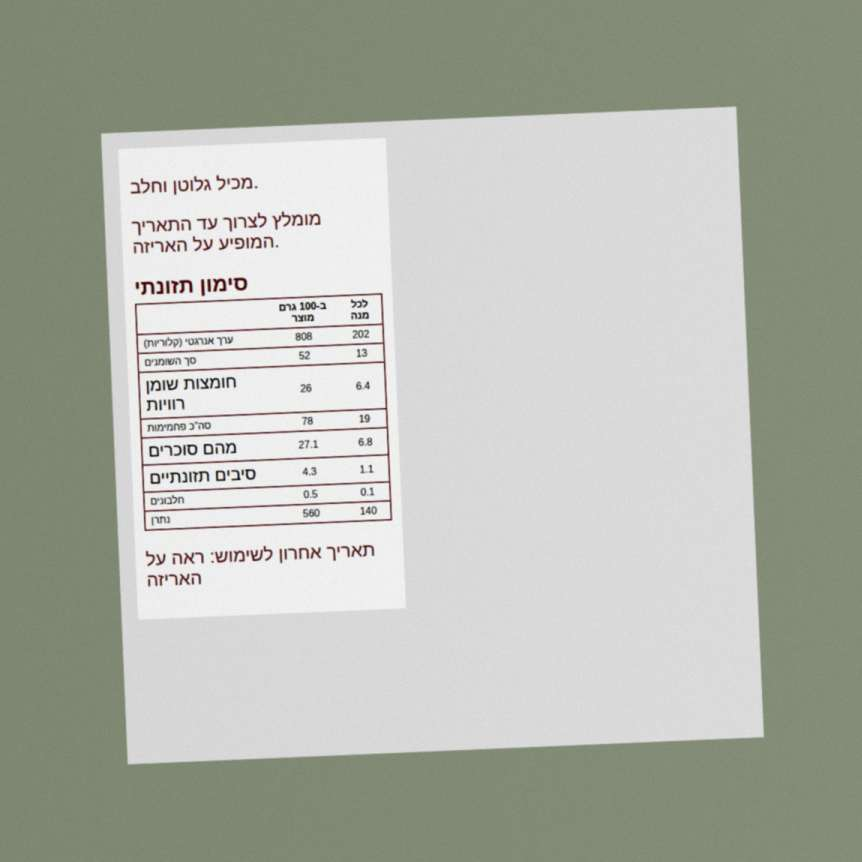carbs: (300, 414, 315, 428)
energy: (294, 330, 314, 344)
fat: (297, 349, 312, 363)
protein: (302, 487, 319, 501)
